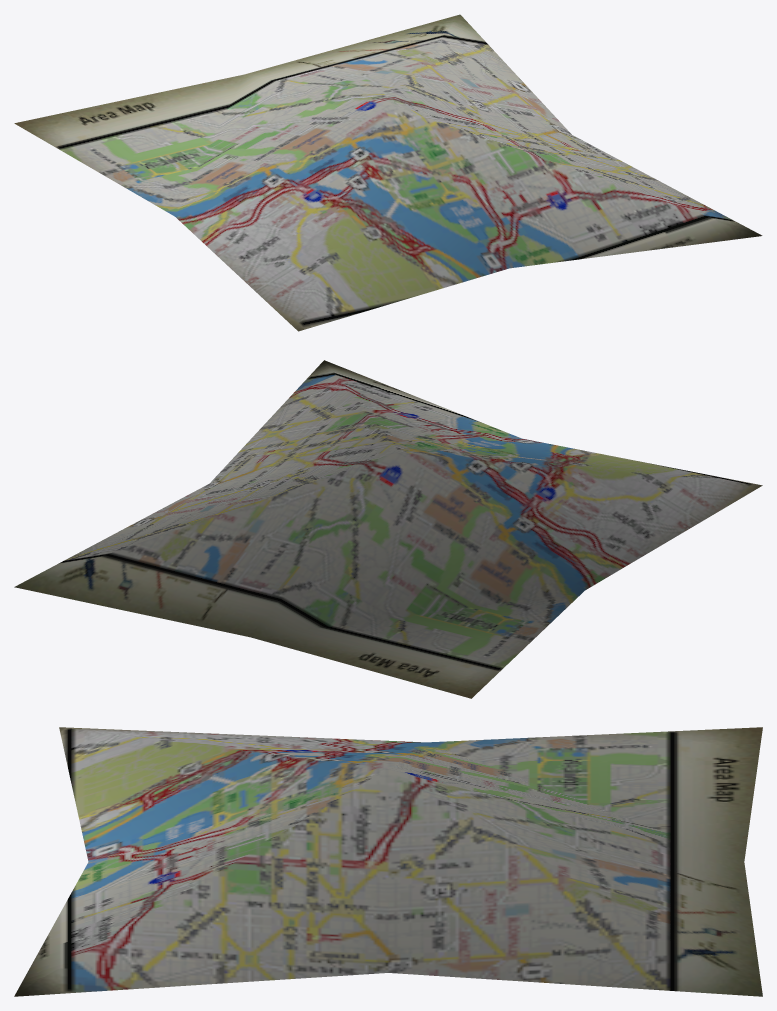
File: common_trash_paper_04.glb
3 views of the same model, one above another, from view 1: azimuth 30°, elevation 25°; view 2: azimuth 150°, elevation 25°; view 3: azimuth 270°, elevation 25° (orthographic). The views are drawn at different scales.
Parts seen in each view (by area): view 1: common/common_trash_paper_04_0; view 2: common/common_trash_paper_04_0; view 3: common/common_trash_paper_04_0.
Part boxes in pixels (x1,y1,x2,y2): common/common_trash_paper_04_0: (14,14,762,331); common/common_trash_paper_04_0: (14,360,762,698); common/common_trash_paper_04_0: (14,727,762,996).
Size of the model in its own units: 1.7 by 0.2722 by 2.
1 material, 1 textured.
